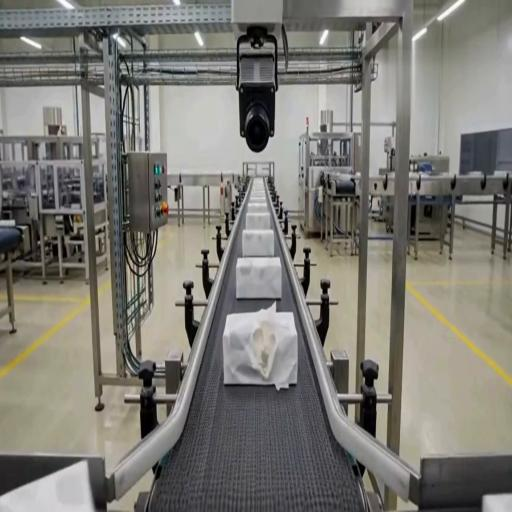defective: (222, 305, 298, 389)
good: (0, 458, 102, 510), (236, 256, 282, 300), (242, 229, 276, 258), (244, 211, 272, 232), (246, 201, 269, 215)
